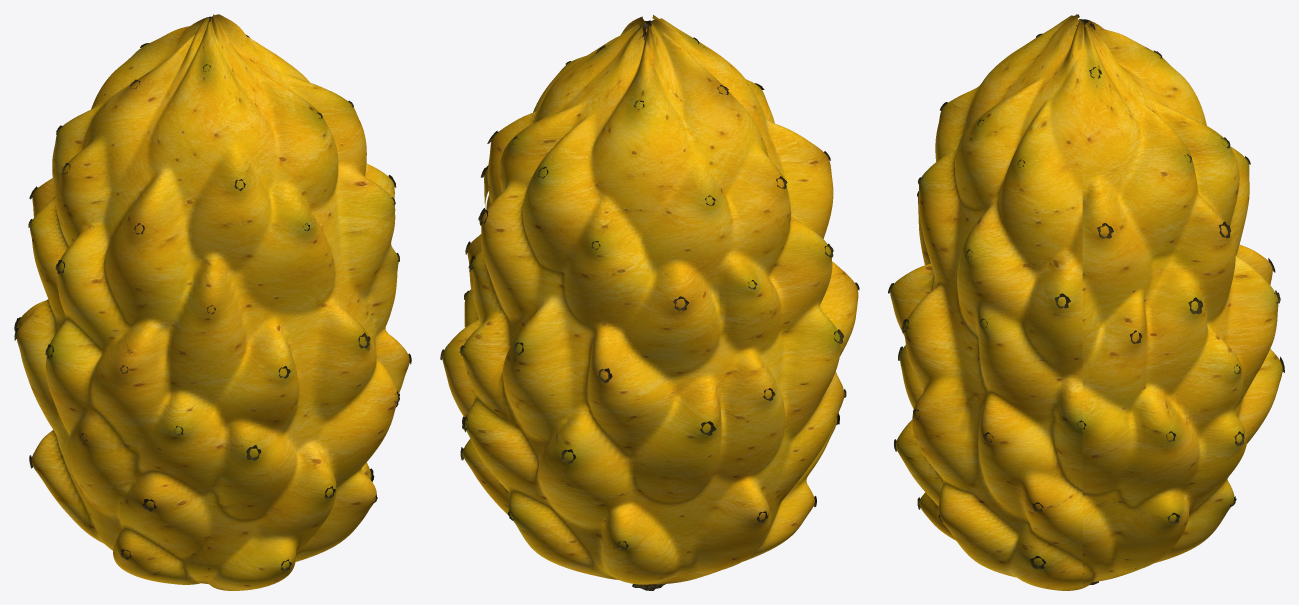
The model's file is pitahaya-amarilla-20261014.glb.
3 renders of one model, left to right at view 1: azimuth 30°, elevation 25°; view 2: azimuth 150°, elevation 25°; view 3: azimuth 270°, elevation 25°, orthographic.
Visible parts, largest first — view 1: Fruit-body, Individual-dry-areoles; view 2: Fruit-body, Individual-dry-areoles; view 3: Fruit-body, Individual-dry-areoles.
Boxes of the visible parts, x1,y1,x2,y2 form: Fruit-body: (16, 14, 409, 590); Individual-dry-areoles: (14, 35, 411, 571); Fruit-body: (442, 15, 858, 584); Individual-dry-areoles: (440, 37, 859, 549); Fruit-body: (890, 14, 1282, 590); Individual-dry-areoles: (888, 33, 1284, 568).
Bounding box in the file's own units: 2.31 × 3.48 × 2.2.
Materials: 1 (1 with a texture image).
